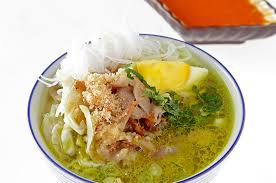Soto: (40, 42, 240, 180)
